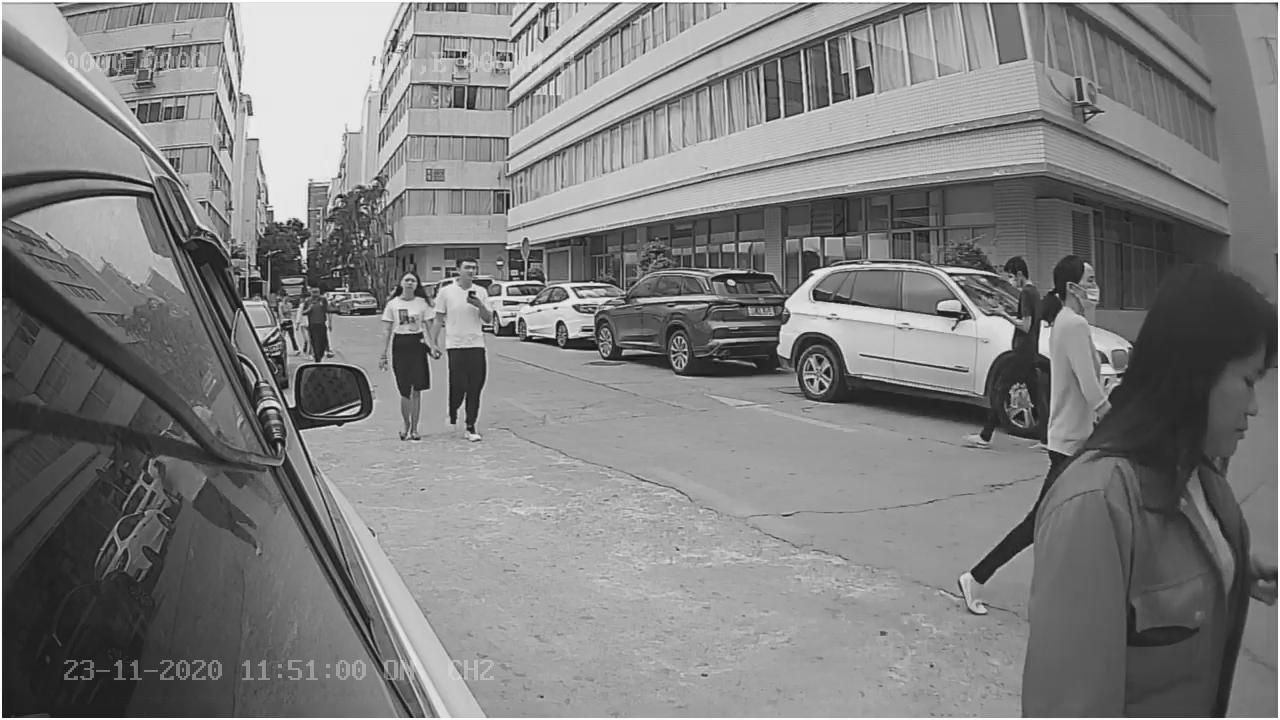person: (370, 264, 438, 441)
